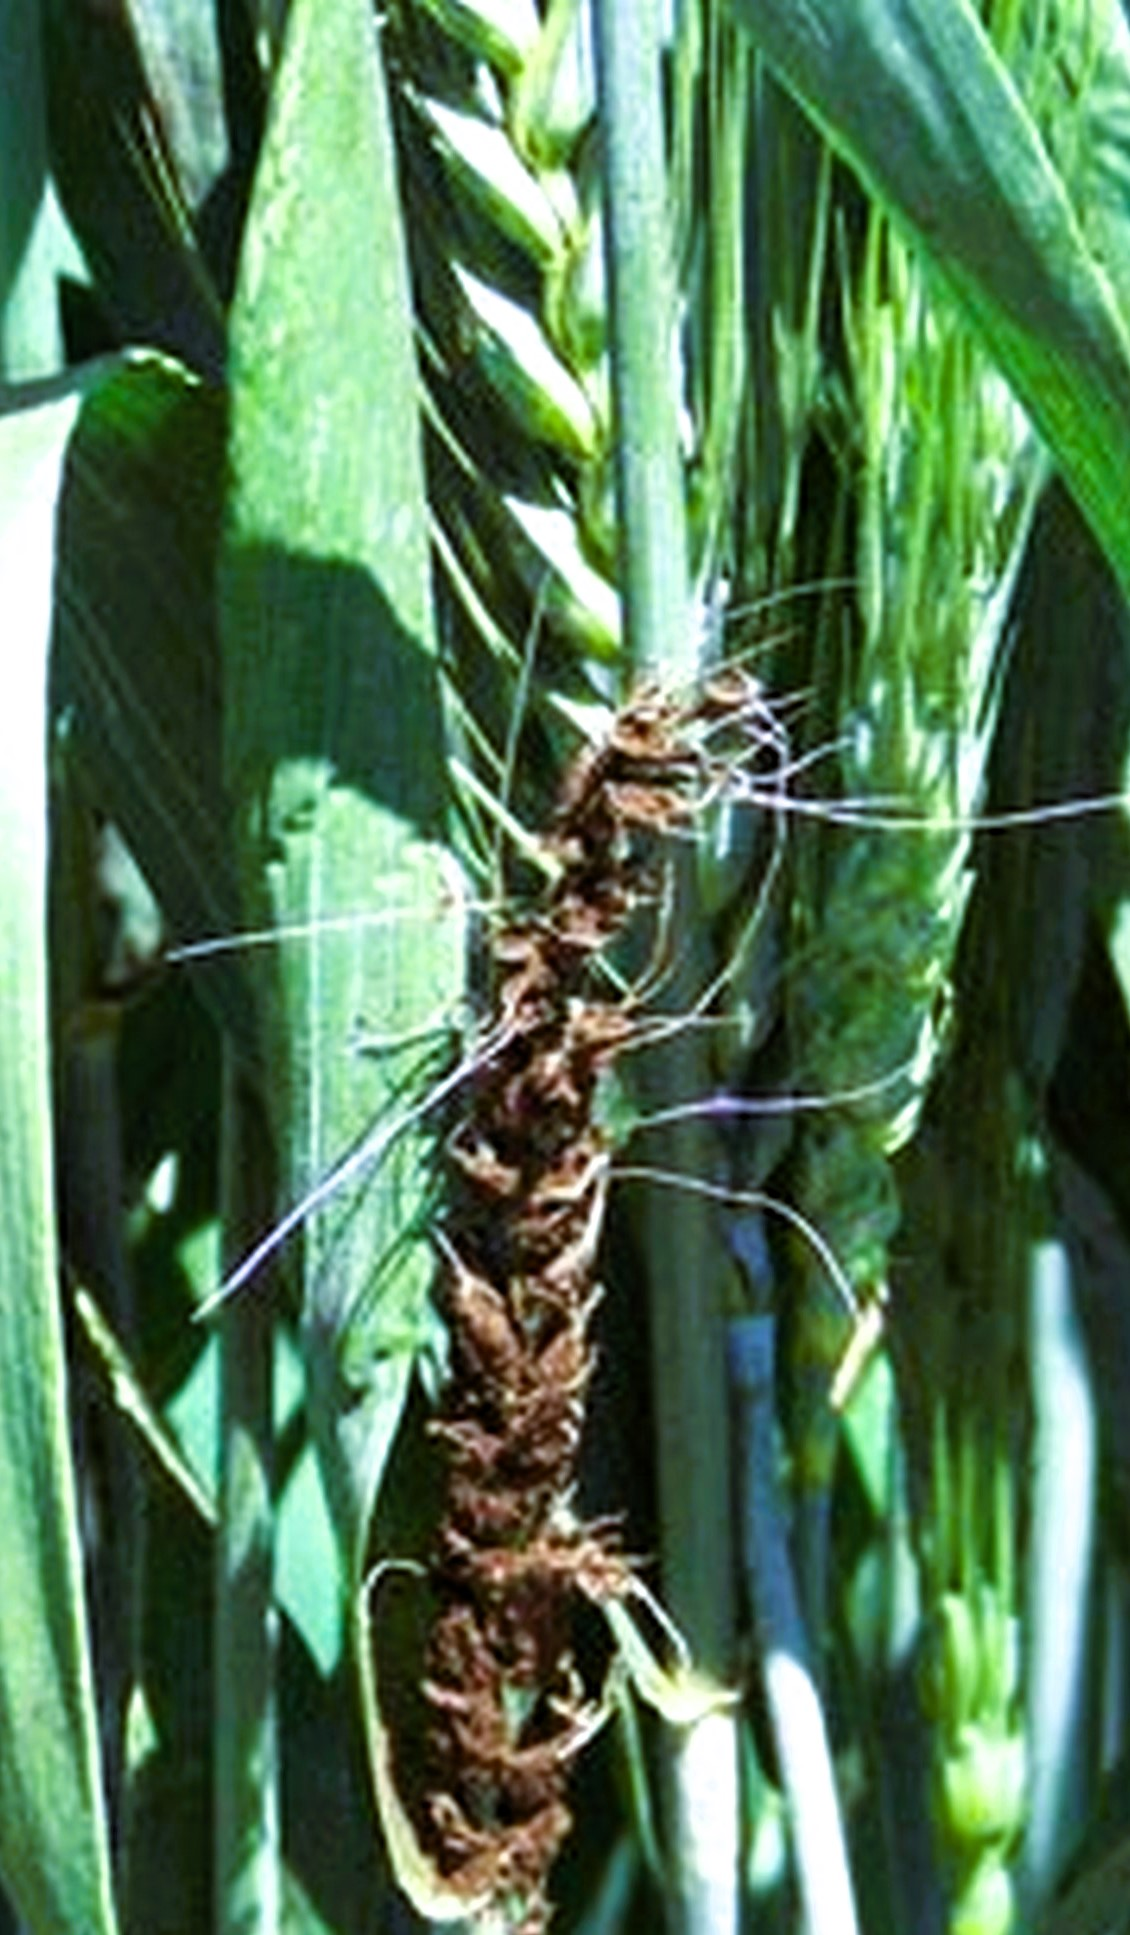Wheat Loose Smut: (344, 662, 786, 1671)
